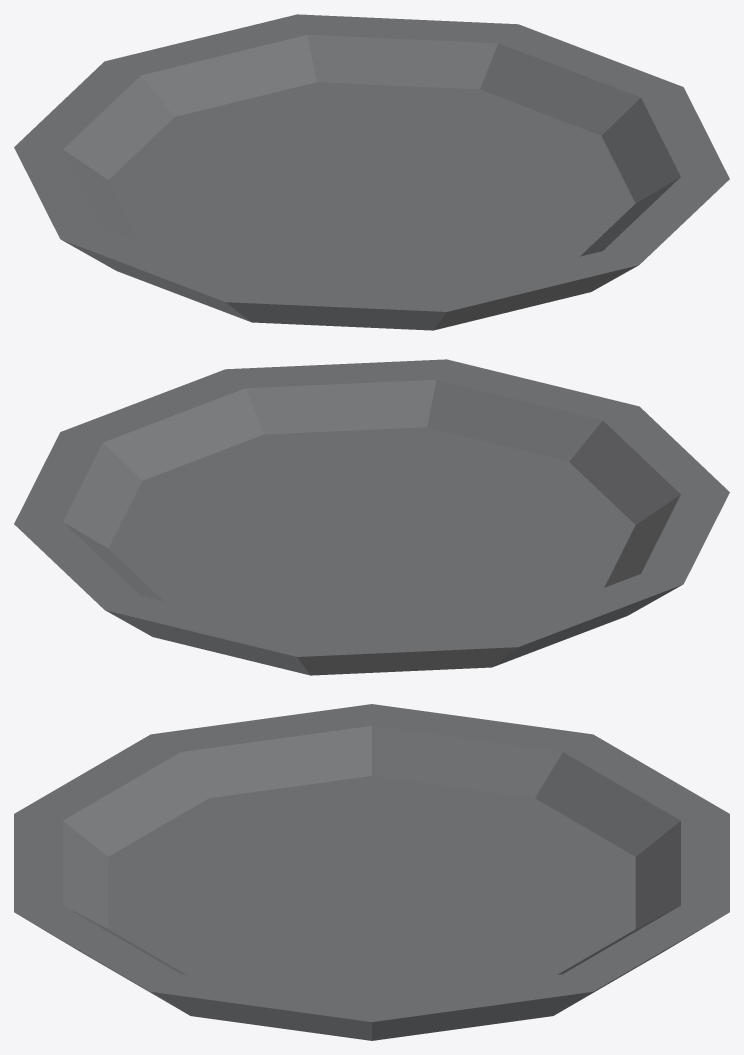
The model's file is plate.fbx.
3 renders of one model, top to bottom at view 1: azimuth 30°, elevation 25°; view 2: azimuth 150°, elevation 25°; view 3: azimuth 270°, elevation 25°, orthographic. The views are drawn at different scales.
Parts seen in each view (by area): view 1: pCylinder4; view 2: pCylinder4; view 3: pCylinder4.
Part boxes in pixels (<box>): pCylinder4: <box>14,14,729,330</box>; pCylinder4: <box>14,359,729,675</box>; pCylinder4: <box>14,704,729,1040</box>.
Size of the model in its own units: 0.3986 by 0.0351 by 0.3791.
